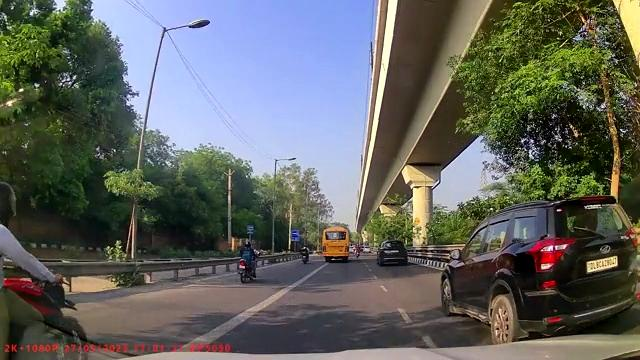motorcycle_with_helmet: (235, 240, 258, 285)
